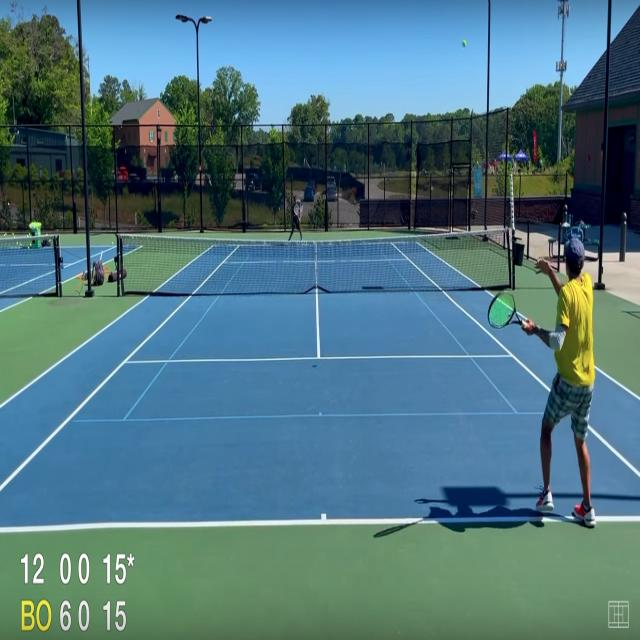ball: (462, 38, 467, 50)
